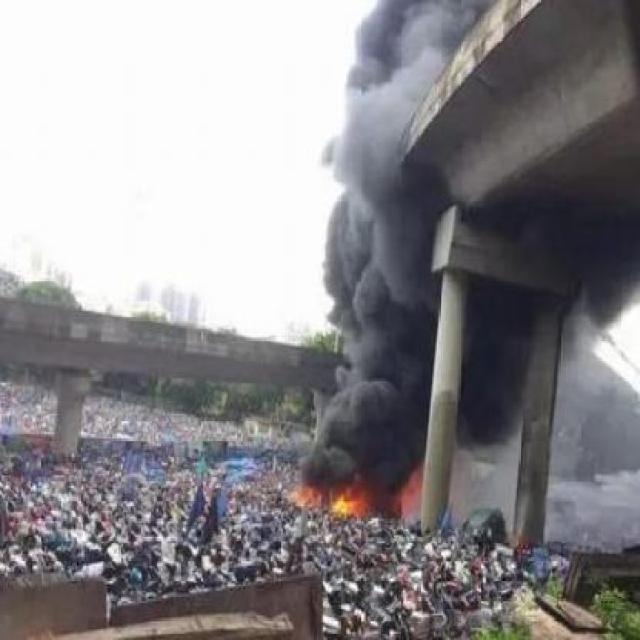Fire: (318, 493, 376, 515)
Smoke: (308, 5, 436, 488)
